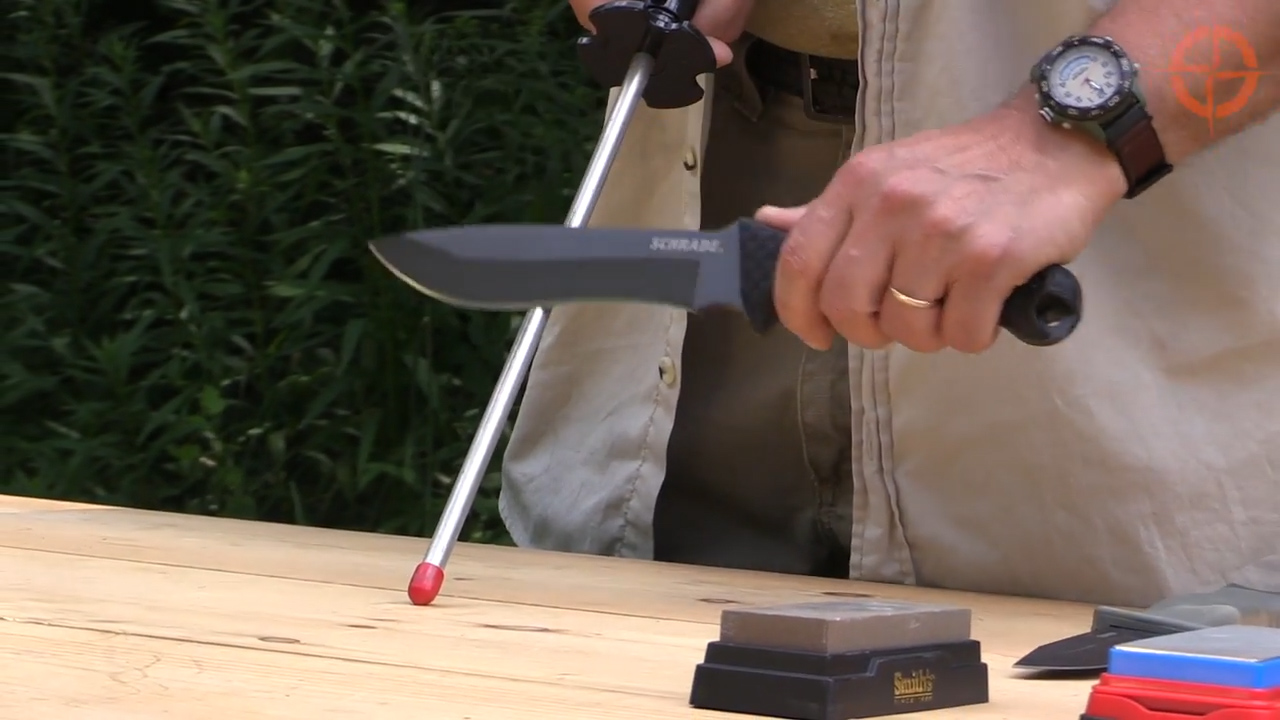knife: (350, 170, 1095, 370)
